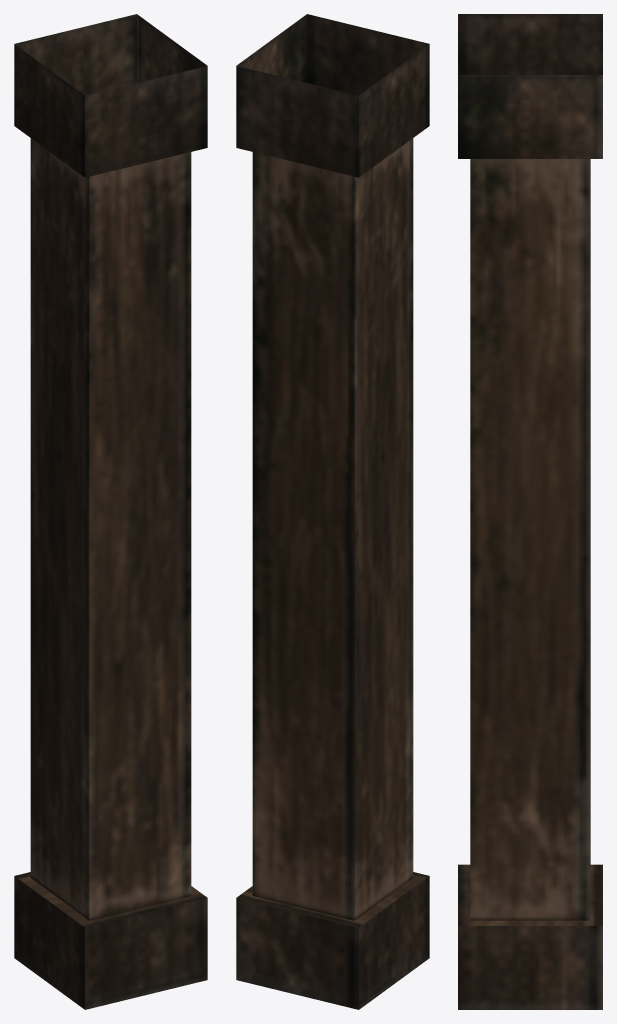
Rendered from pillar_1.obj.
3 renders of one model, left to right at view 1: azimuth 30°, elevation 25°; view 2: azimuth 150°, elevation 25°; view 3: azimuth 270°, elevation 25°, orthographic. The views are drawn at different scales.
Parts seen in each view (by area): view 1: Pillar02_Solid; view 2: Pillar02_Solid; view 3: Pillar02_Solid.
Boxes of the visible parts, <box> form: Pillar02_Solid: <box>14,14,207,1009</box>; Pillar02_Solid: <box>236,14,429,1009</box>; Pillar02_Solid: <box>458,14,602,1009</box>.
Size of the model in its own units: 0.4208 by 3 by 0.4208.
Materials: 1 (1 with a texture image).
